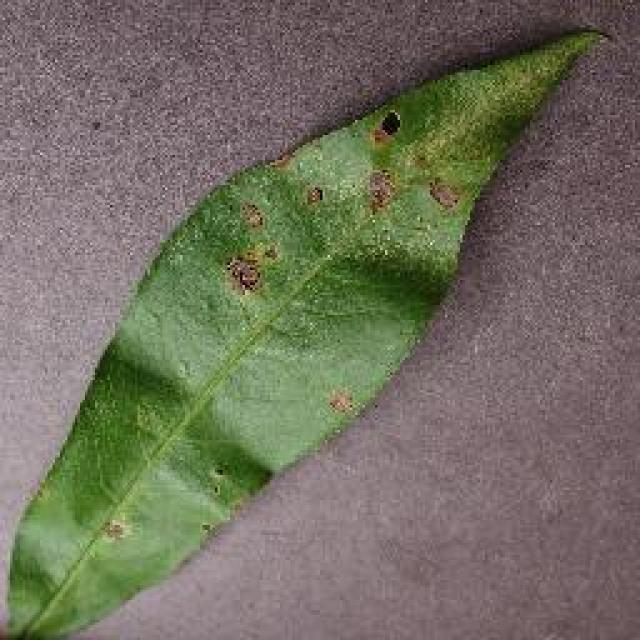Peach_Bacterial_Spot: (174, 102, 508, 338)
